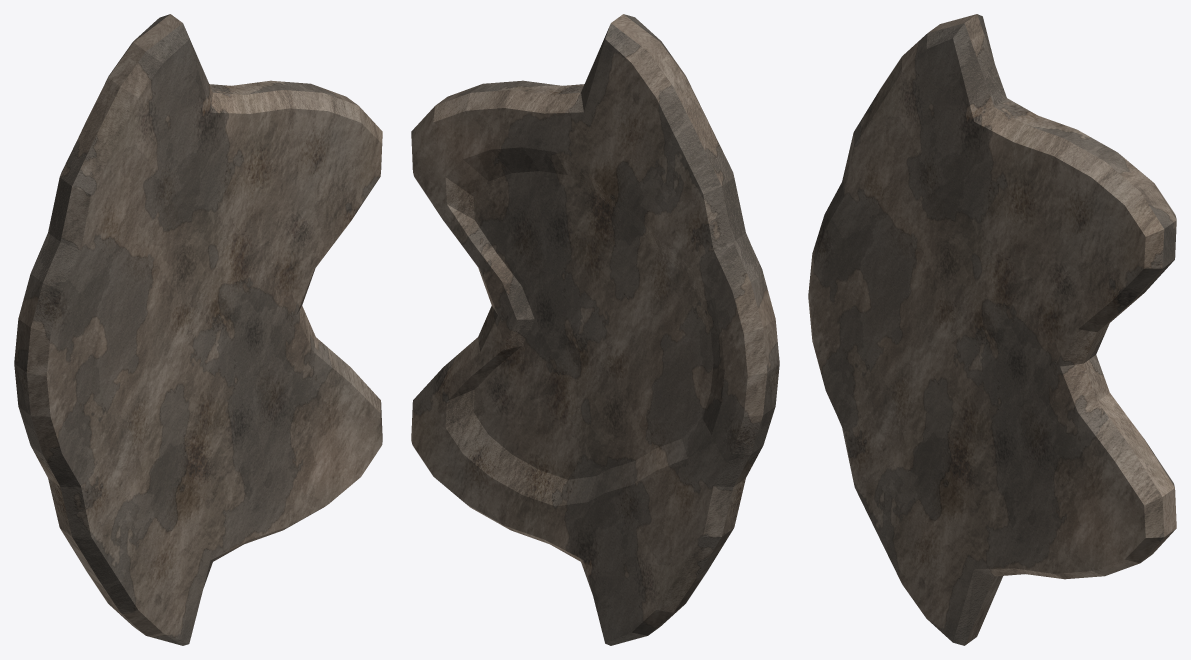
File: platform1.dae
The picture shows the model from 3 angles, left to right: view 1: azimuth 30°, elevation 25°; view 2: azimuth 150°, elevation 25°; view 3: azimuth 330°, elevation 25°; orthographic projection.
Parts seen in each view (by area): view 1: Cylinder; view 2: Cylinder; view 3: Cylinder.
Part boxes in pixels (bbox=[...]): Cylinder: bbox=[14, 14, 382, 645]; Cylinder: bbox=[411, 14, 779, 645]; Cylinder: bbox=[808, 14, 1176, 645].
Bounding box in the file's own units: 14 × 2.03 × 23.39.
